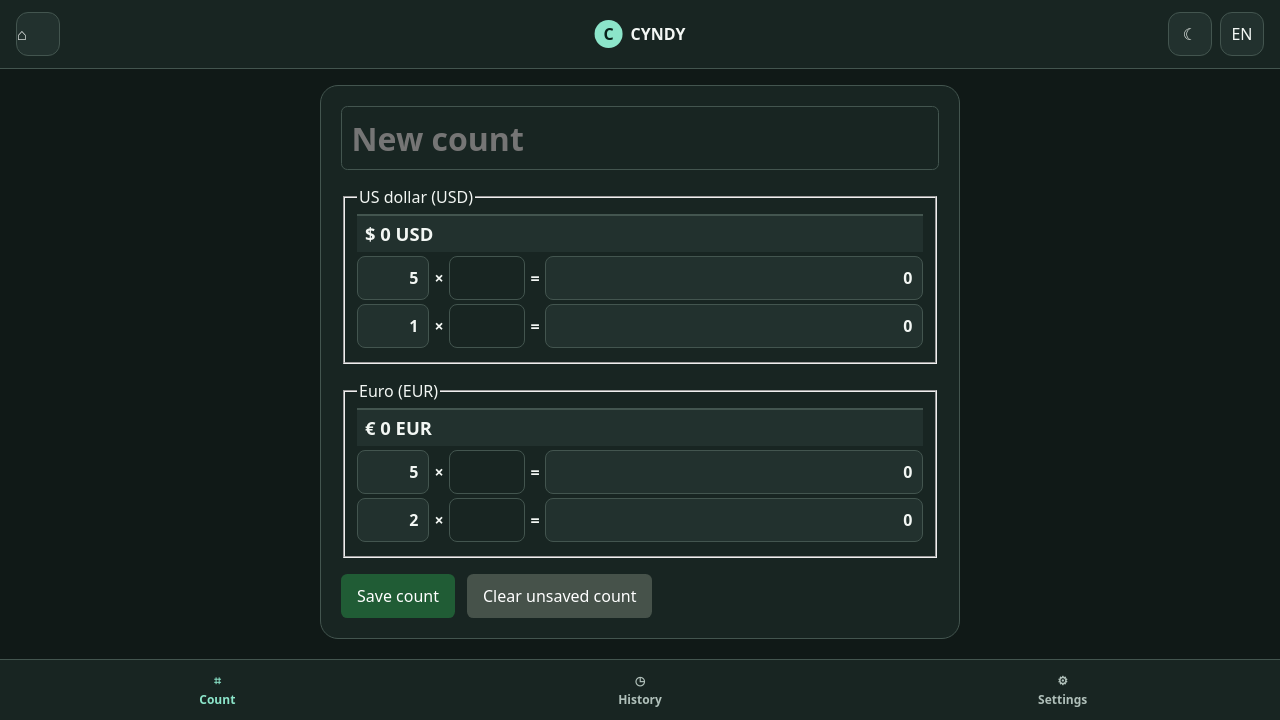
Test: new count route › rejects invalid quantity -1
The width and height of the screenshot is (1280, 720).
Type "-1" into the number field named "$1 quantity" at (487, 326), box [449,304,525,348]
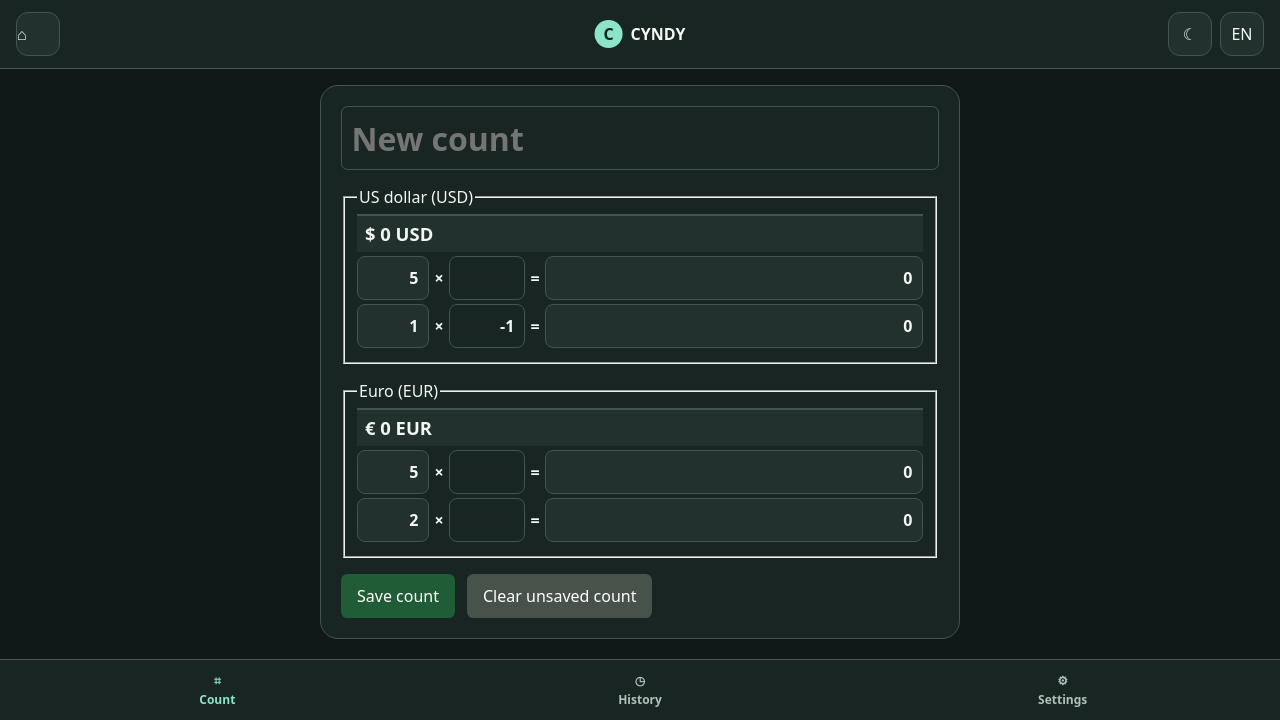
Click the button "Save count" at (398, 596), box [341,574,455,618]
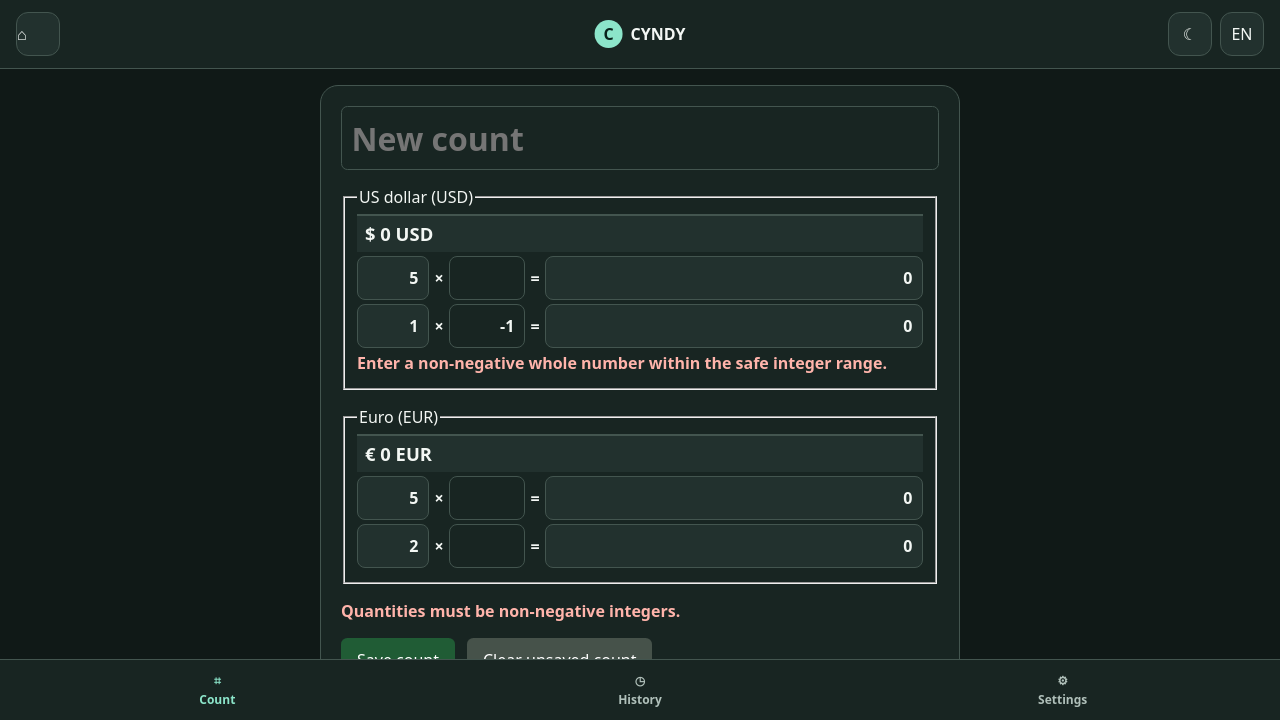
Expected: the message reads "Quantities must be non-negative integers.", [341,600,680,622]
